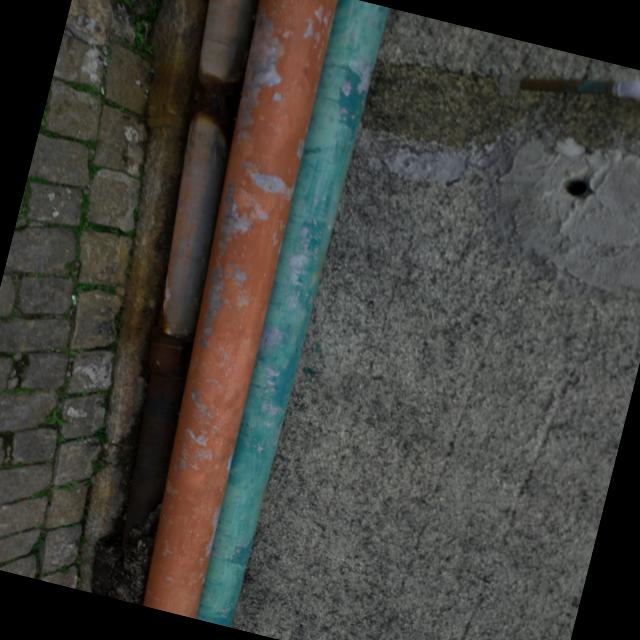gas: (140, 0, 331, 617), (197, 0, 384, 628)
